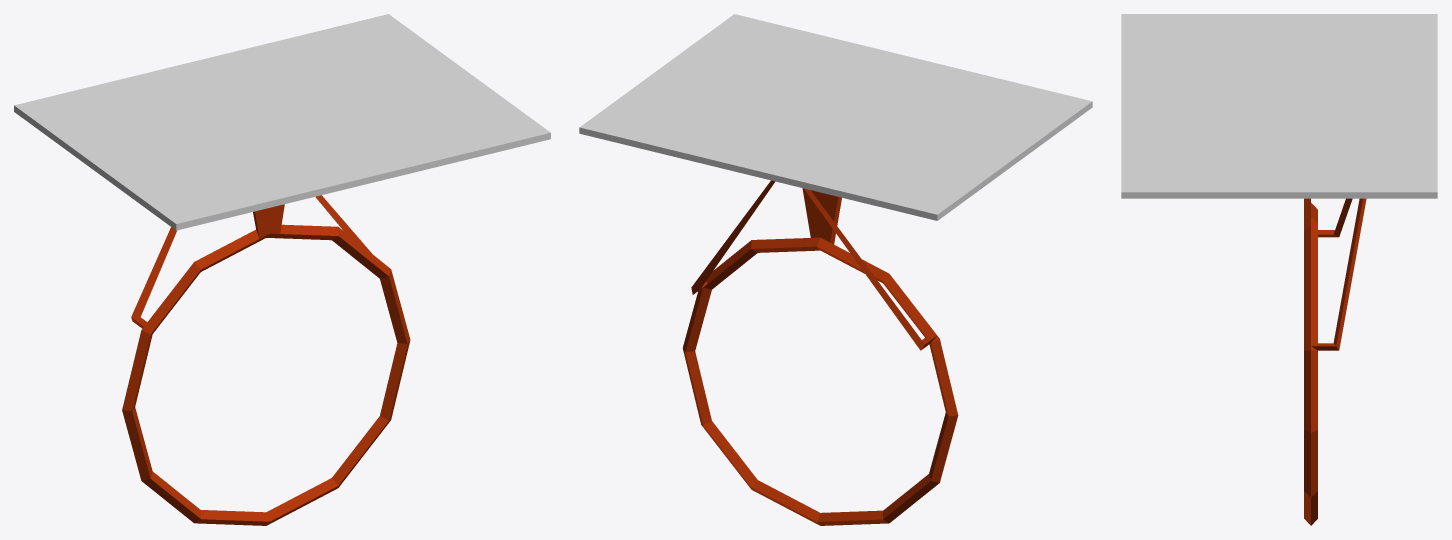
The model's file is Hoop.glb.
3 views of the same model, side by side, from view 1: azimuth 30°, elevation 25°; view 2: azimuth 150°, elevation 25°; view 3: azimuth 270°, elevation 25° (orthographic). The views are drawn at different scales.
Parts seen in each view (by area): view 1: Hoop; view 2: Hoop; view 3: Hoop.
Boxes of the visible parts, <box> form: Hoop: <box>14,14,550,525</box>; Hoop: <box>579,14,1092,525</box>; Hoop: <box>1121,14,1437,525</box>.
Size of the model in its own units: 1.2 by 1.28 by 0.9.
Materials: 1 (1 with a texture image).
